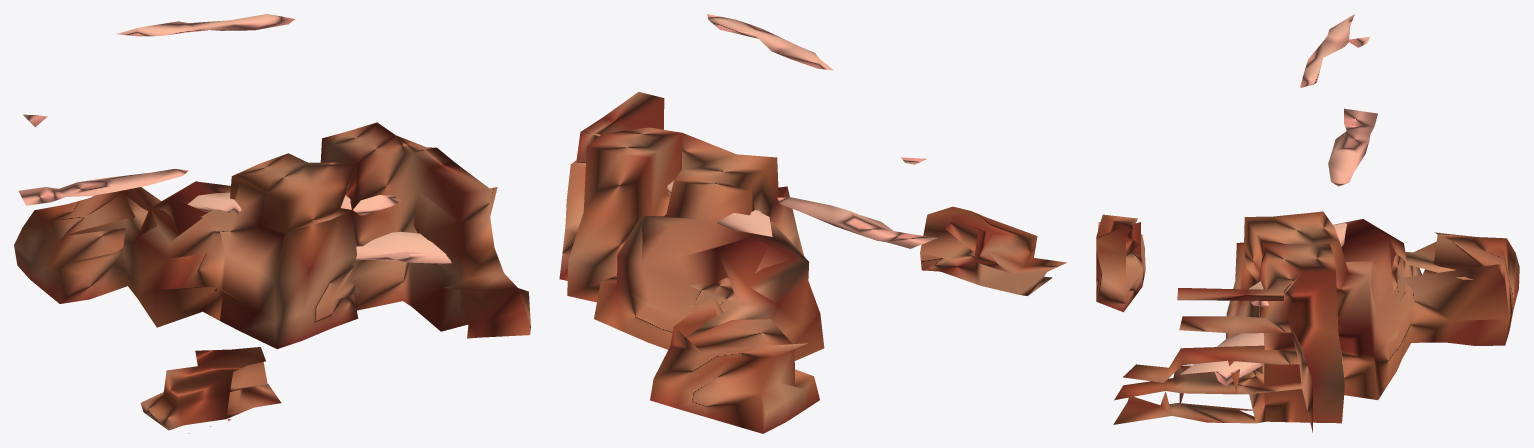
The picture shows the model from 3 angles, left to right: view 1: azimuth 30°, elevation 25°; view 2: azimuth 150°, elevation 25°; view 3: azimuth 270°, elevation 25°; orthographic projection. The views are drawn at different scales.
Visible parts, largest first — view 1: scene.l1.2.0 (×2); view 2: scene.l1.2.0 (×2); view 3: scene.l1.2.0 (×2).
Boxes of the visible parts, x1,y1,x2,y2 form: scene.l1.2.0 (×2): [14, 14, 530, 430]; scene.l1.2.0 (×2): [559, 14, 1066, 433]; scene.l1.2.0 (×2): [1096, 14, 1519, 432].
Size of the model in its own units: 125 by 91.54 by 122.
